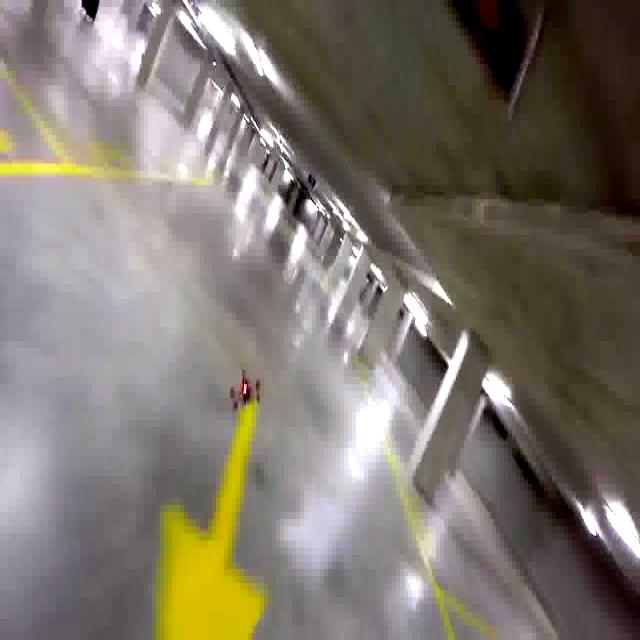drone: (223, 362, 266, 413)
